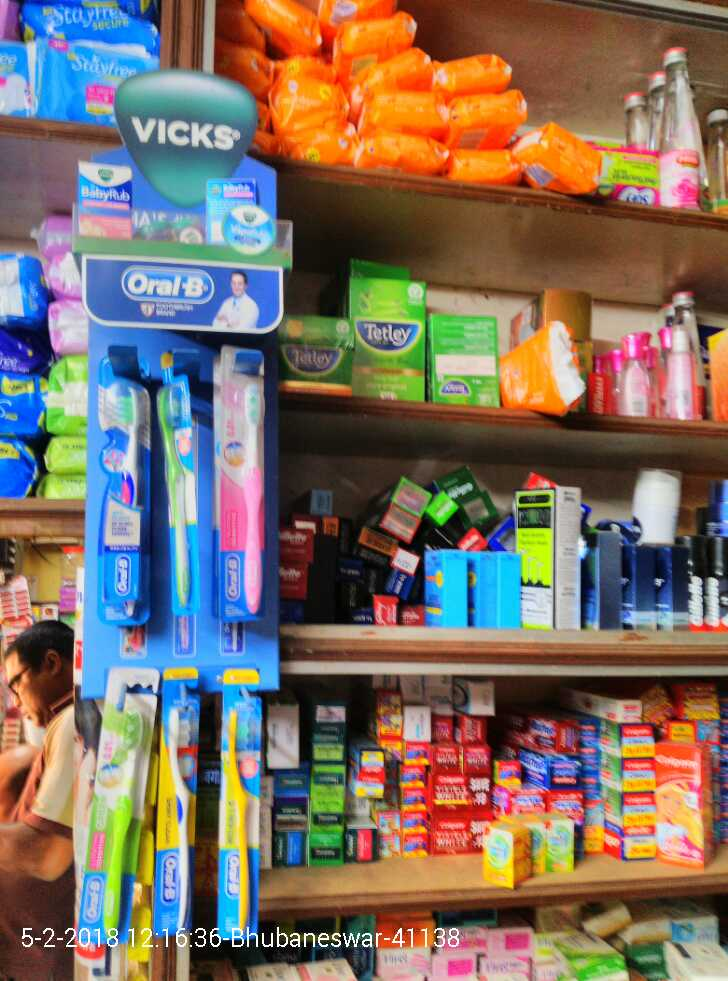oralb: (95, 379, 155, 639), (97, 680, 153, 935), (155, 382, 216, 616), (215, 362, 269, 623), (216, 677, 265, 946), (160, 676, 197, 942)
